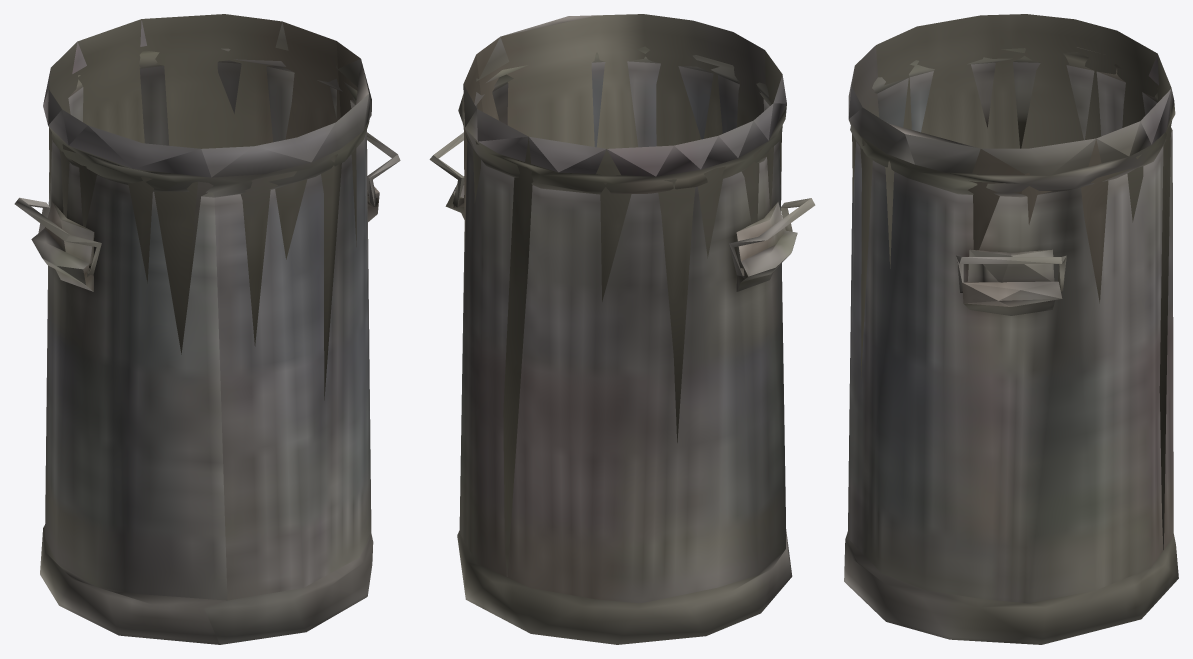
File: bin_metal.glb
The picture shows the model from 3 angles, left to right: view 1: azimuth 30°, elevation 25°; view 2: azimuth 150°, elevation 25°; view 3: azimuth 270°, elevation 25°; orthographic projection.
Visible parts, largest first — view 1: prop; view 2: prop; view 3: prop.
Part boxes in pixels (x1,y1,x2,y2): prop: [14, 14, 400, 644]; prop: [429, 14, 815, 644]; prop: [844, 14, 1178, 644].
Size of the model in its own units: 0.5359 by 0.75 by 0.4616.
Materials: 1 (1 with a texture image).
